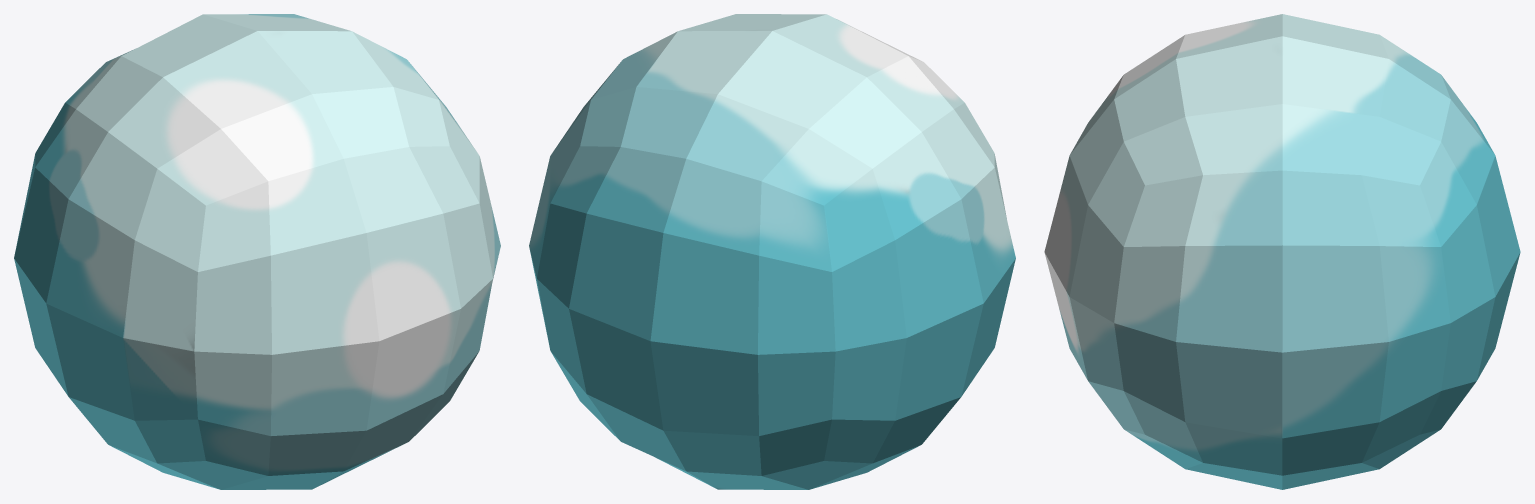
The model's file is bubble.fbx.
3 views of the same model, side by side, from view 1: azimuth 30°, elevation 25°; view 2: azimuth 150°, elevation 25°; view 3: azimuth 270°, elevation 25° (orthographic). The views are drawn at different scales.
Parts seen in each view (by area): view 1: Cube; view 2: Cube; view 3: Cube.
Boxes of the visible parts, left/top/right/bottom form: Cube: left=14, top=14, right=500, bottom=489; Cube: left=529, top=14, right=1015, bottom=489; Cube: left=1044, top=14, right=1520, bottom=489.
Bounding box in the file's own units: 263 × 263 × 263.
Materials: 1 (1 with a texture image).
